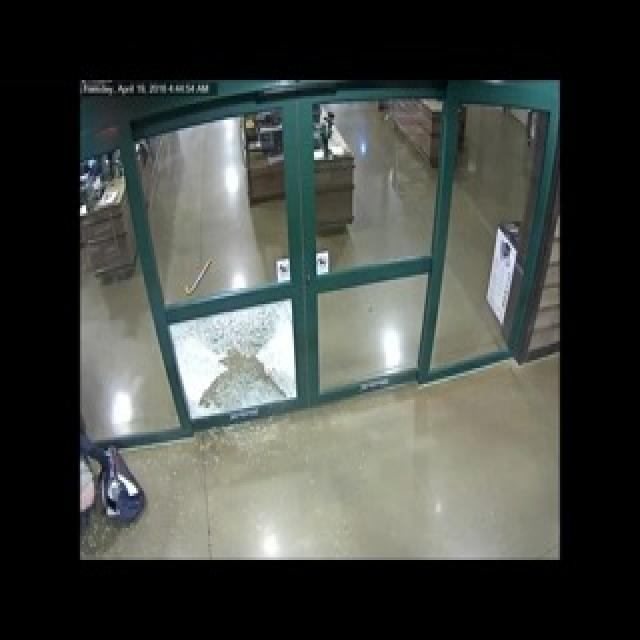burglary: (153, 336, 280, 428)
